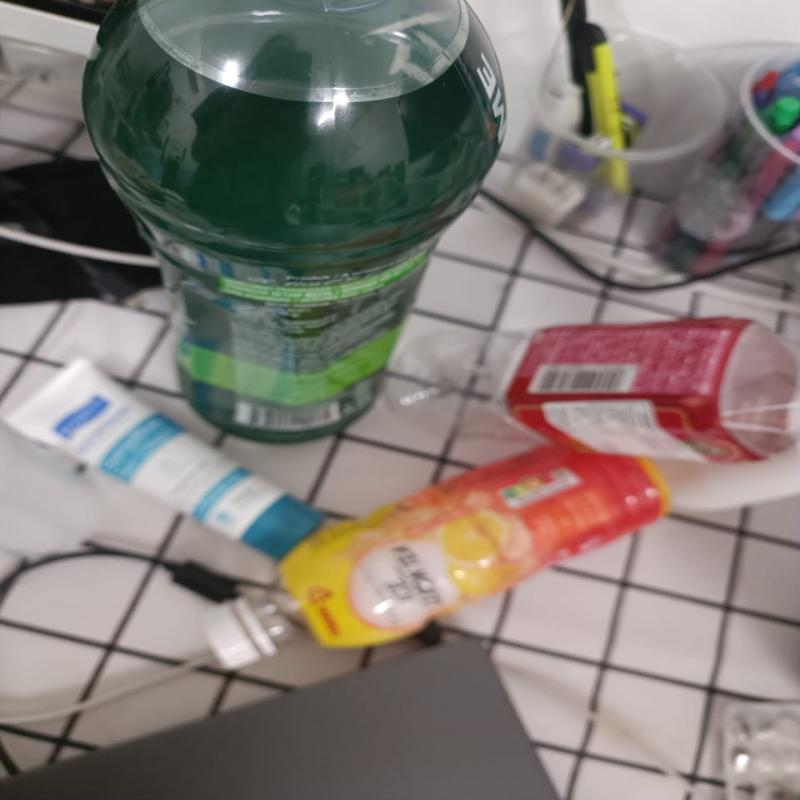botella: (78, 3, 500, 448), (207, 444, 674, 682), (392, 320, 800, 460)
